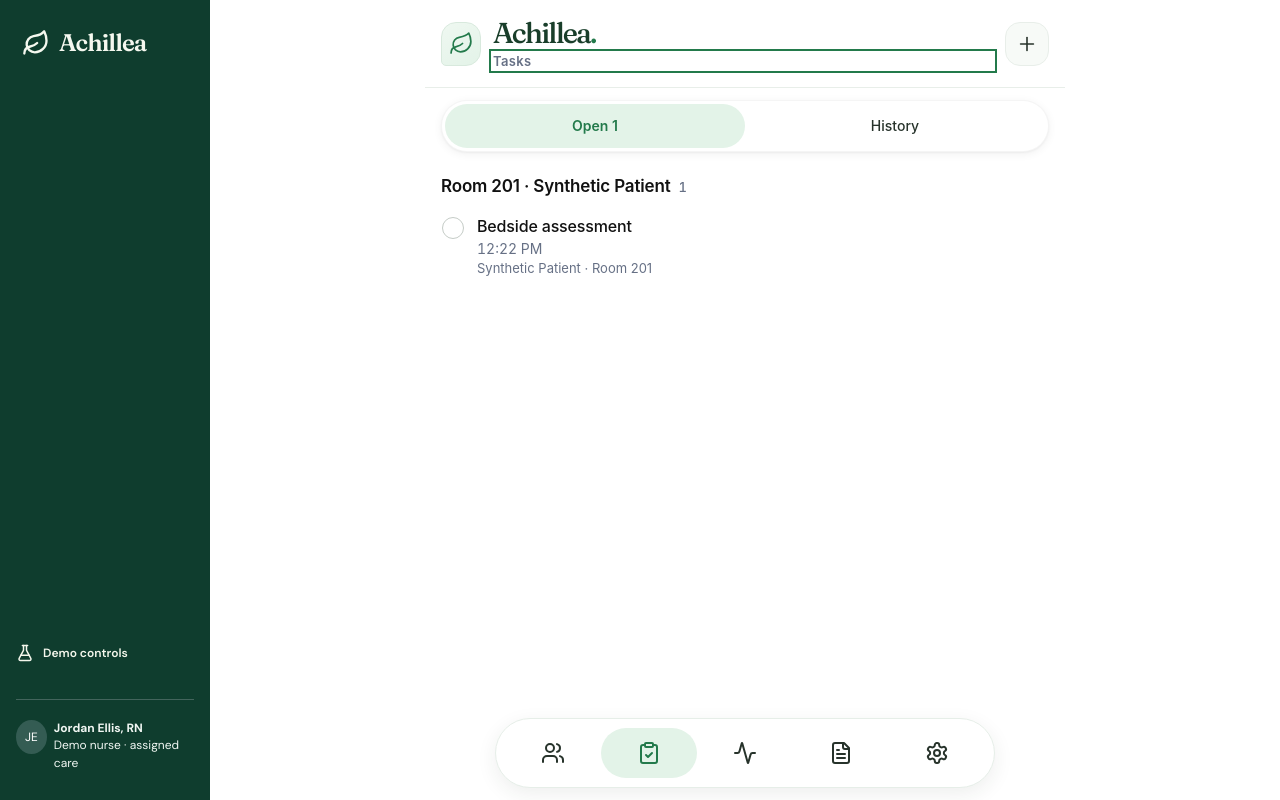
opens a focused task from Rounds and returns to that schedule
Click the button with aria-label "Bedside assessment,". click: [554, 226]
box: [477, 204, 1049, 278]
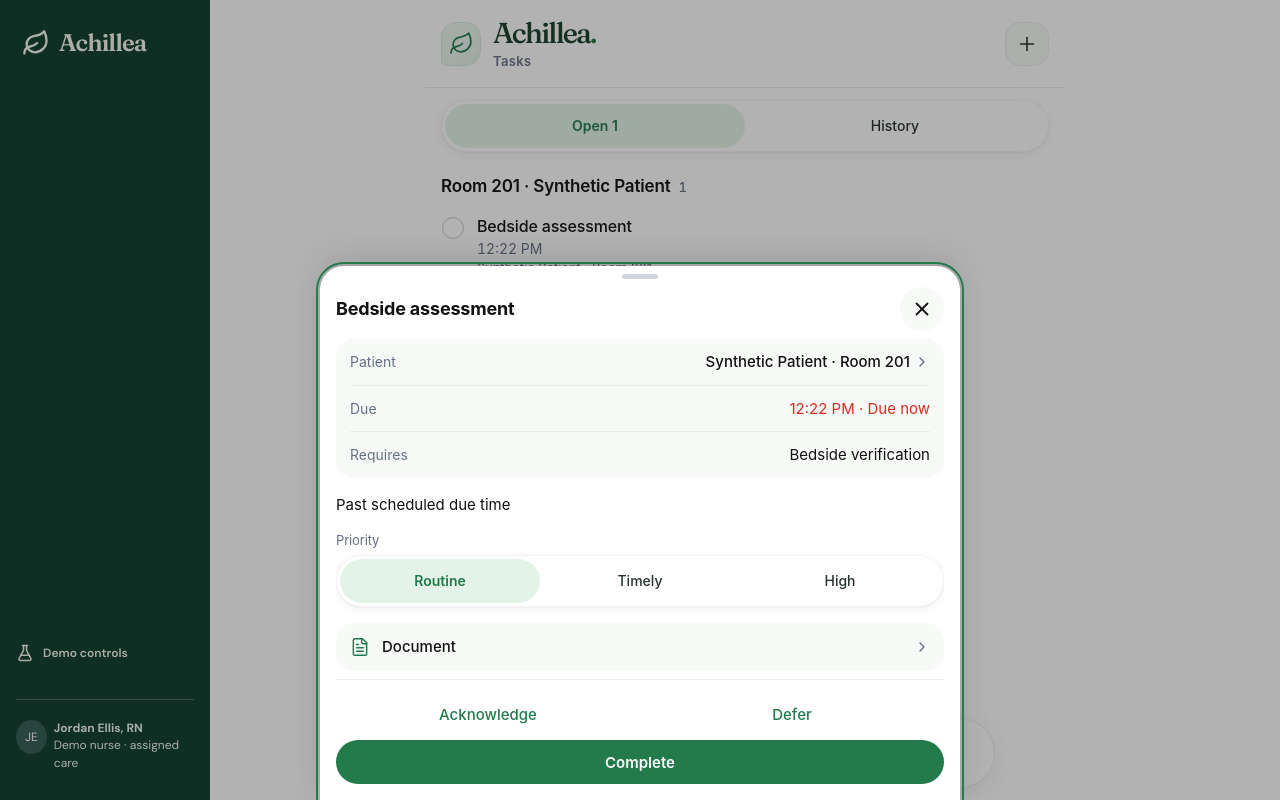
Click the link with aria-label "Open bedside workspace". click: [373, 361]
box: [350, 339, 930, 386]
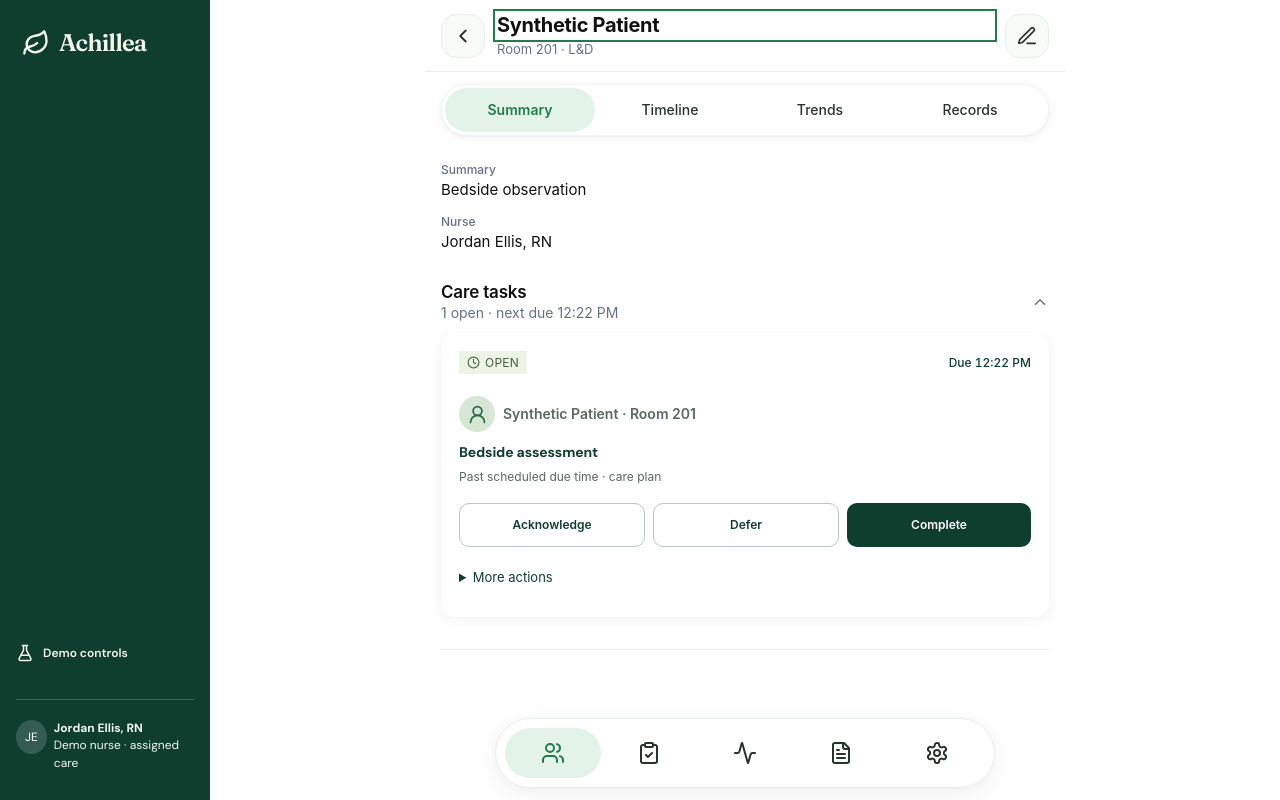
Expected: the heading "Synthetic Patient" is shown, [497, 13, 659, 37]
Click the link named "Back to Tasks". click: [463, 36]
box: [441, 14, 485, 58]
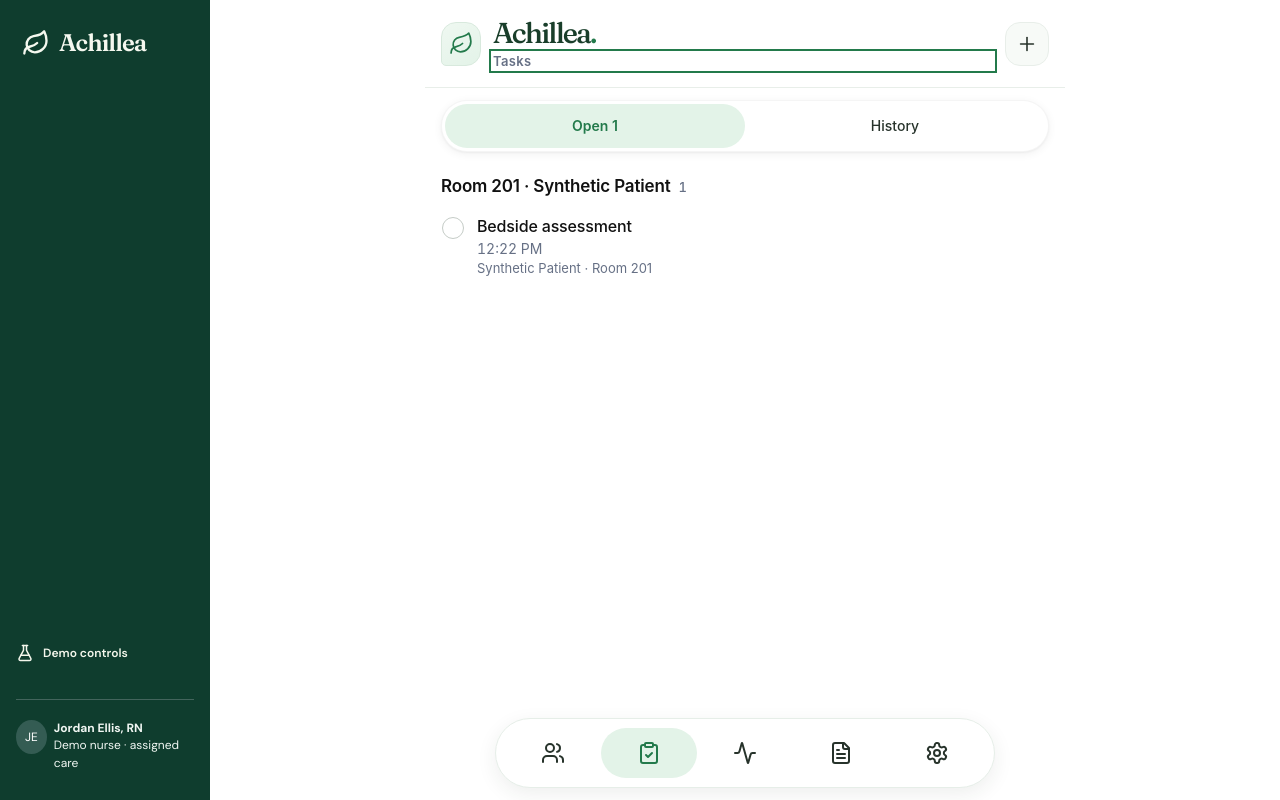
Expected: the heading "Tasks" is shown, [493, 53, 531, 69]
